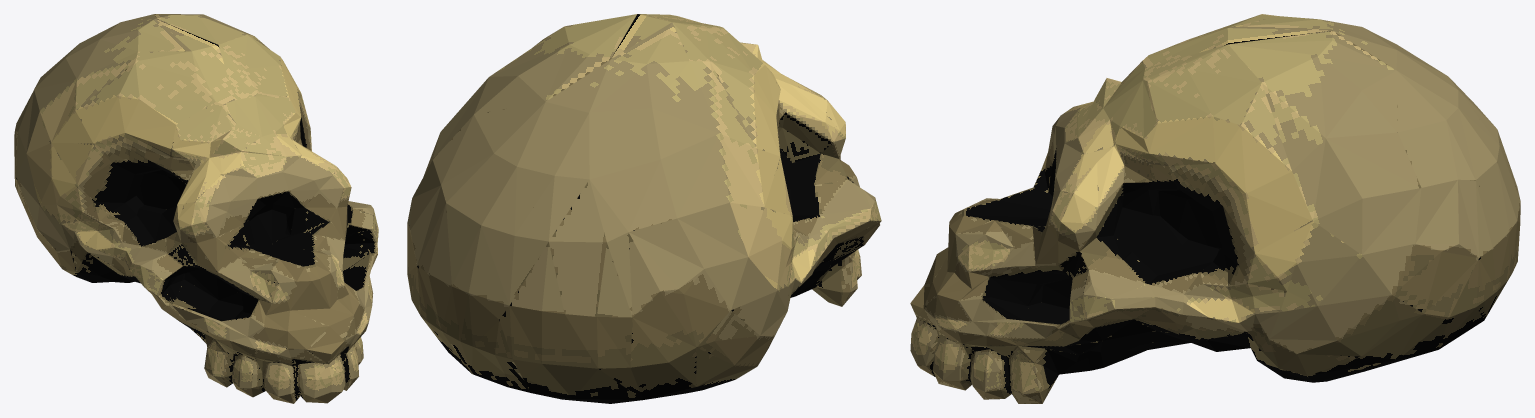
The picture shows the model from 3 angles, left to right: view 1: azimuth 30°, elevation 25°; view 2: azimuth 150°, elevation 25°; view 3: azimuth 270°, elevation 25°; orthographic projection. The views are drawn at different scales.
Visible parts, largest first — view 1: OBJ0c2; view 2: OBJ0c2; view 3: OBJ0c2.
Boxes of the visible parts, <box> form: OBJ0c2: <box>14,14,378,403</box>; OBJ0c2: <box>407,14,881,403</box>; OBJ0c2: <box>910,14,1520,403</box>.
Size of the model in its own units: 0.1868 by 0.184 by 0.3044.
1 material, 1 textured.
